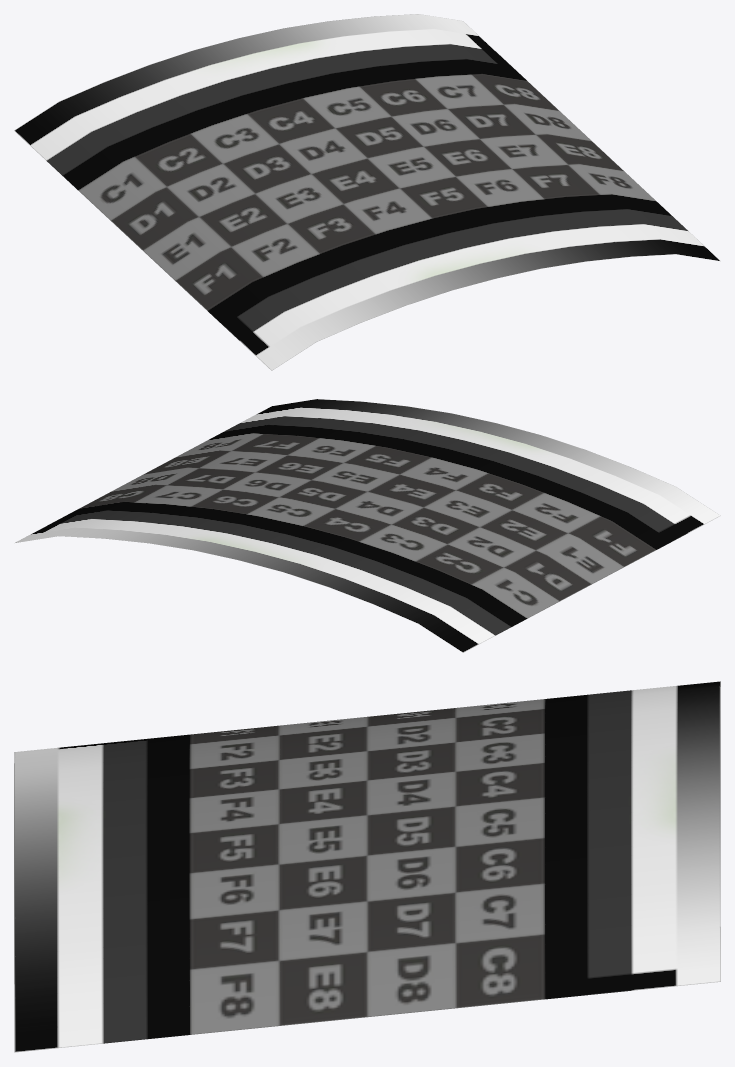
Rendered from status.obj.
3 renders of one model, top to bottom at view 1: azimuth 30°, elevation 25°; view 2: azimuth 150°, elevation 25°; view 3: azimuth 270°, elevation 25°, orthographic. The views are drawn at different scales.
Parts seen in each view (by area): view 1: status group1; view 2: status group1; view 3: status group1.
Boxes of the visible parts, x1,y1,x2,y2 form: status group1: (14,14,720,370); status group1: (15,399,720,652); status group1: (14,681,720,1052).
Bounding box in the file's own units: 0.03 × 0.0057 × 0.0298.
1 material, 1 textured.
